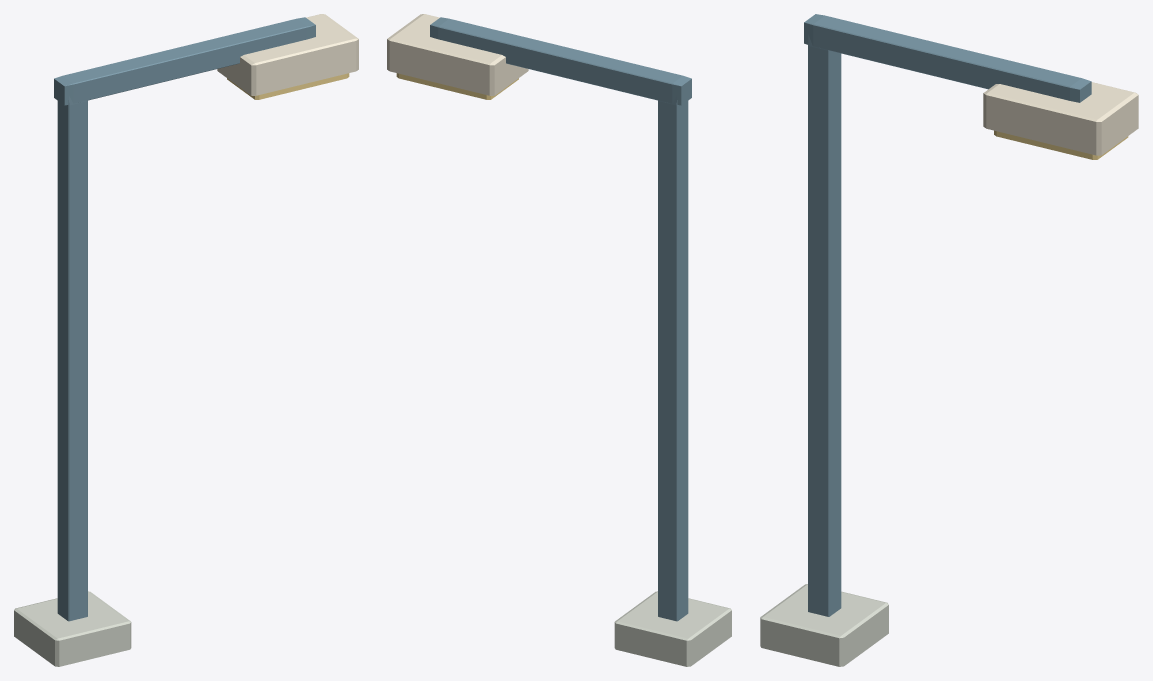
The picture shows the model from 3 angles, left to right: view 1: azimuth 30°, elevation 25°; view 2: azimuth 150°, elevation 25°; view 3: azimuth 330°, elevation 25°; orthographic projection. The views are drawn at different scales.
Visible parts, largest first — view 1: mast, arm, lamp, base, lens; view 2: mast, arm, lamp, base, lens; view 3: mast, arm, lamp, base, lens.
Boxes of the visible parts, bbox=[...] form: mast: bbox=[57, 96, 87, 621]; arm: bbox=[54, 17, 315, 105]; lamp: bbox=[217, 14, 358, 95]; base: bbox=[14, 591, 131, 666]; lens: bbox=[227, 73, 349, 99]; mast: bbox=[658, 96, 688, 621]; arm: bbox=[430, 17, 691, 105]; lamp: bbox=[387, 14, 528, 95]; base: bbox=[614, 591, 731, 666]; lens: bbox=[396, 73, 518, 99]; mast: bbox=[808, 35, 841, 616]; arm: bbox=[804, 14, 1091, 102]; lamp: bbox=[983, 82, 1138, 155]; base: bbox=[760, 584, 888, 666]; lens: bbox=[994, 130, 1128, 159].
Size of the model in its own units: 3.43 by 6.01 by 0.85.
